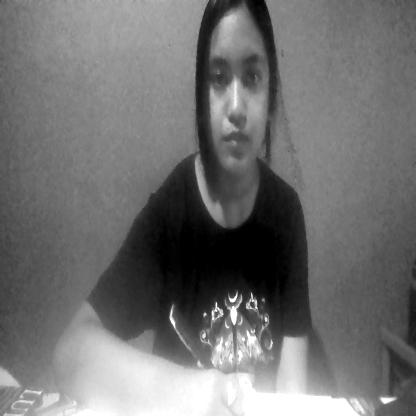Normal: (186, 4, 288, 182)
